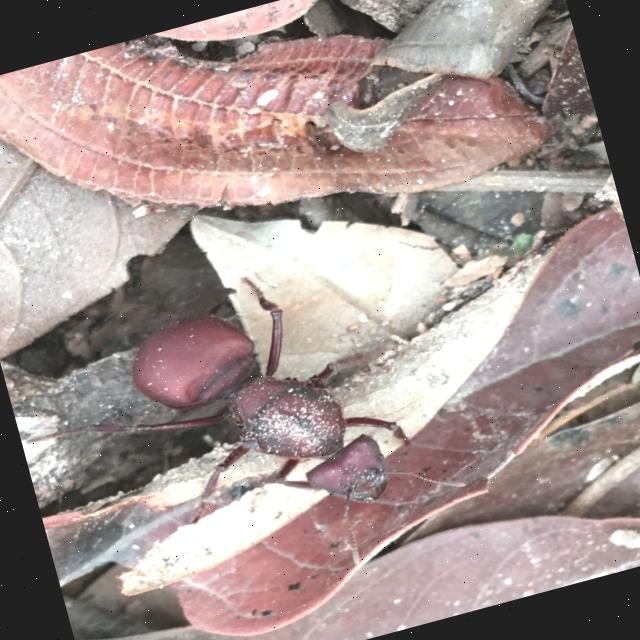Alive-Female-Dealate: (1, 235, 478, 638)
